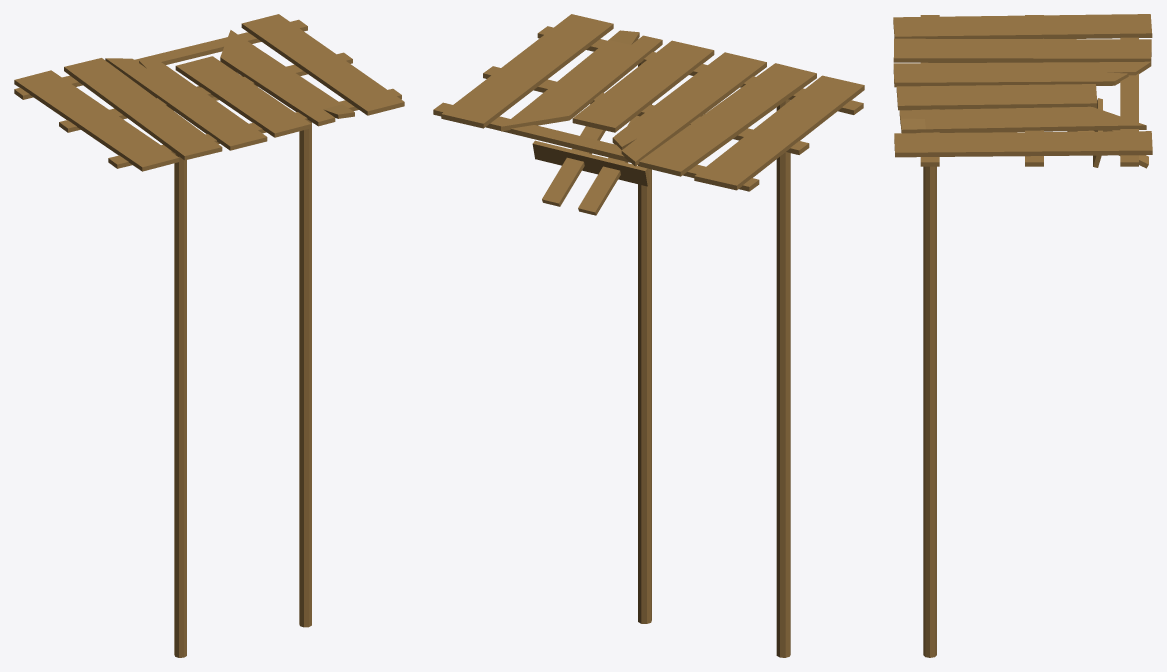
Rendered from O_Enviroment_TreeHousePlatform.fbx.
The picture shows the model from 3 angles, left to right: view 1: azimuth 30°, elevation 25°; view 2: azimuth 150°, elevation 25°; view 3: azimuth 270°, elevation 25°; orthographic projection. The views are drawn at different scales.
Visible parts, largest first — view 1: pCube70; view 2: pCube70; view 3: pCube70.
Part boxes in pixels (left/top/right/bottom): pCube70: left=14, top=14, right=404, bottom=657; pCube70: left=433, top=14, right=864, bottom=657; pCube70: left=893, top=14, right=1152, bottom=657.
Bounding box in the file's own units: 4.11 × 7.12 × 3.06.
